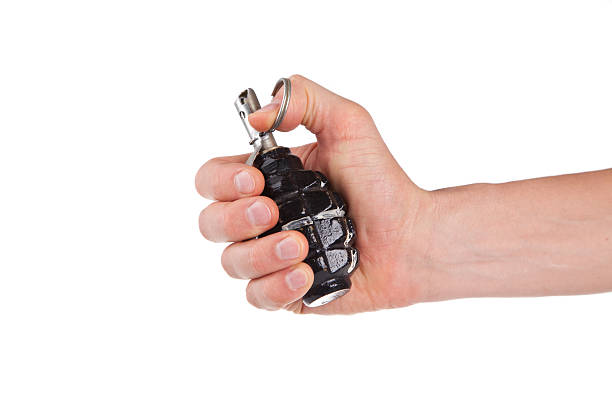e1: (229, 76, 361, 308)
